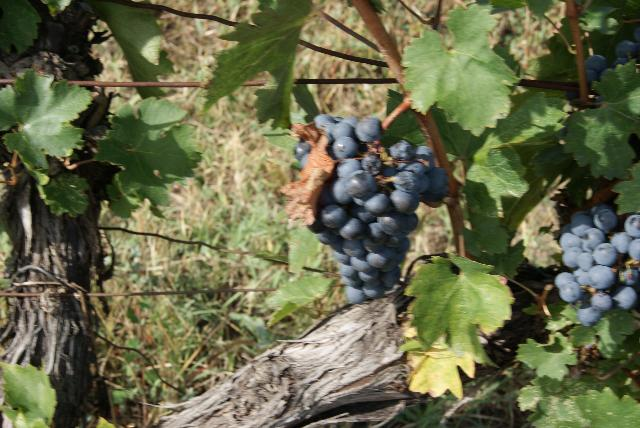grapes: (308, 114, 449, 304)
